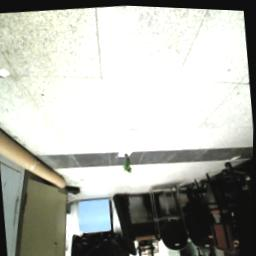herb: (123, 150, 134, 174)
